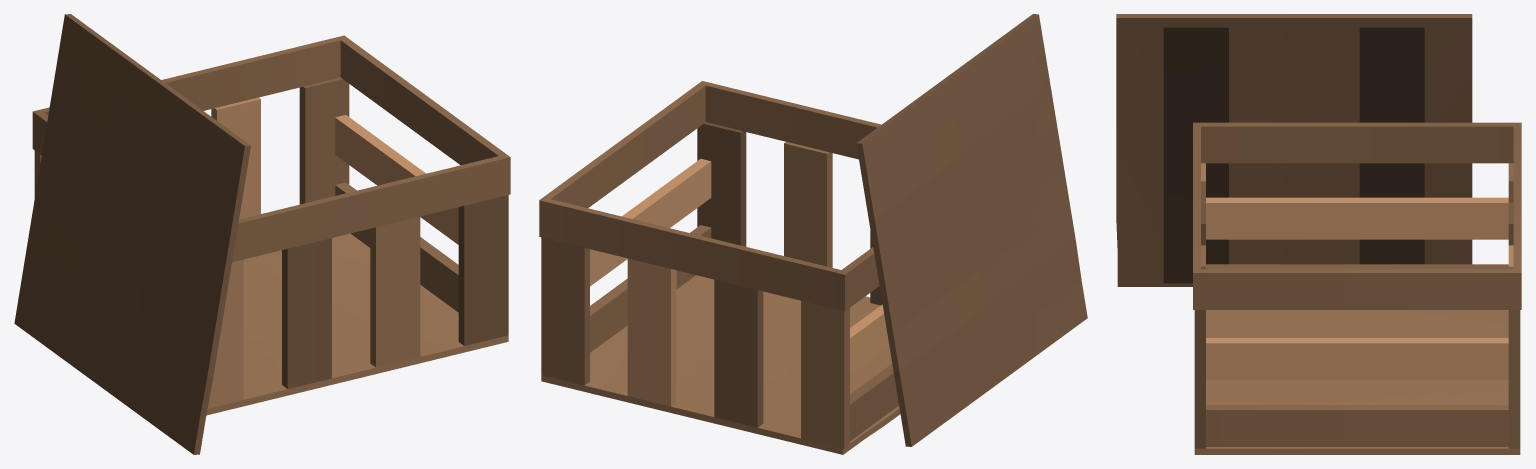
Rendered from Med Mid Crate Leaned Lid.fbx.
The picture shows the model from 3 angles, left to right: view 1: azimuth 30°, elevation 25°; view 2: azimuth 150°, elevation 25°; view 3: azimuth 270°, elevation 25°; orthographic projection.
Parts seen in each view (by area): view 1: Med Mid Crate Leaned Lid; view 2: Med Mid Crate Leaned Lid; view 3: Med Mid Crate Leaned Lid.
Boxes of the visible parts, box(x1,y1,x2,y2) form: Med Mid Crate Leaned Lid: box(14, 14, 510, 454); Med Mid Crate Leaned Lid: box(539, 14, 1087, 454); Med Mid Crate Leaned Lid: box(1116, 14, 1521, 454).
Bounding box in the file's own units: 190 × 237 × 236.
Materials: 1 (1 with a texture image).
